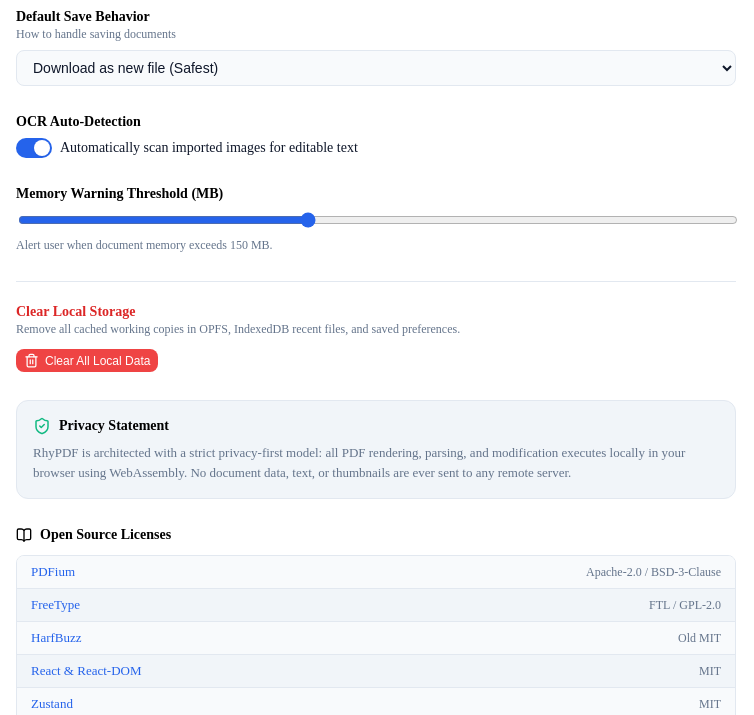
Test: Task 4.13: Settings: theme, default font, units, language, save behavior, clear data, licenses, privacy statement › clears all local data (recents, working copies, storage) on clear button click
This screenshot has width=754, height=715.
(page scrolled)
Click the button with test id "btn-clear-local-data": (87, 360) [16,349,158,372]
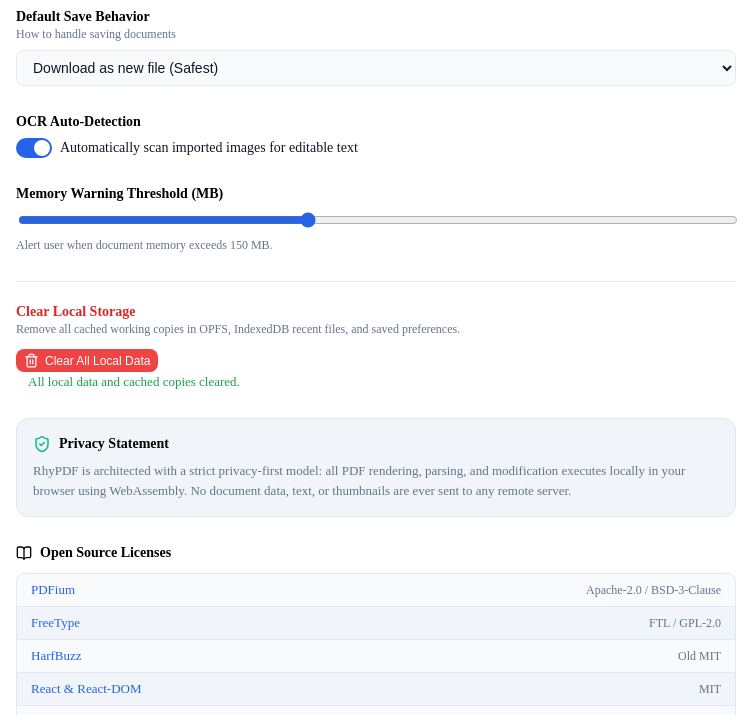
Check: the text "All local data and cached copies cleared." is shown, box [28,374,240,389]
